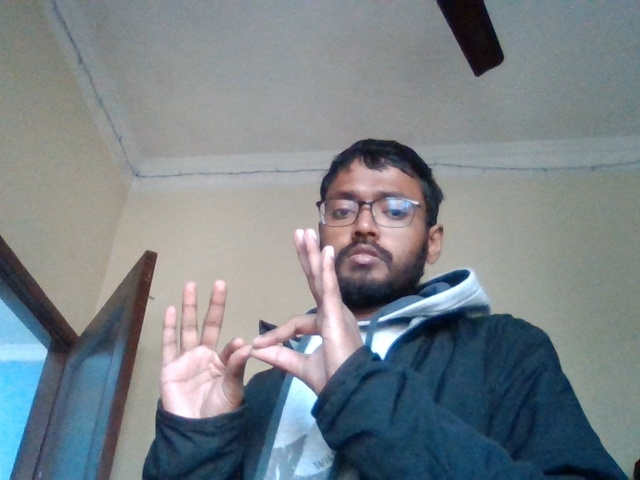family: (155, 268, 377, 406)
